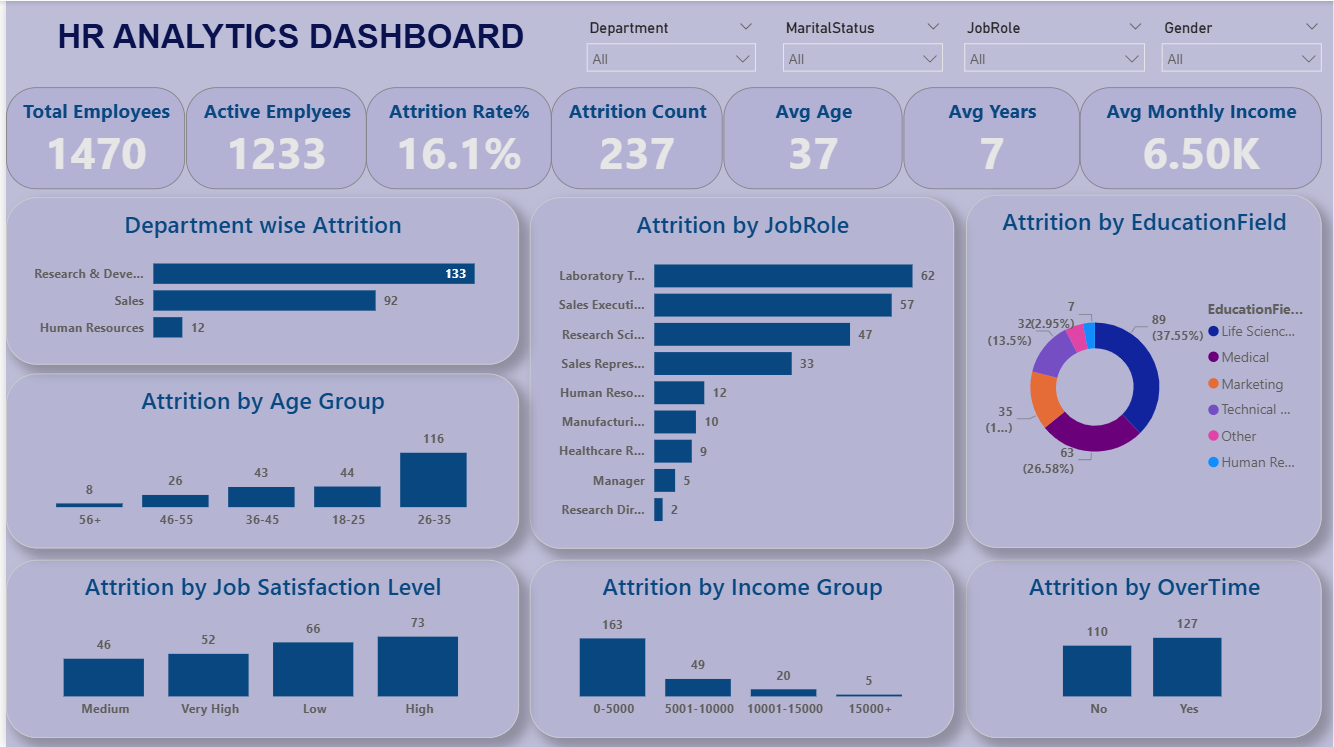

The page's visual inventory and layout, read from the dashboard file:
{"tool":"powerbi","page":{"name":"HR Analytics Dasboard","canvas":[1280,720],"ordinal":0},"visuals":[{"type":"card","title":"Total Employees","fields":{"Values":["HR_Employee_Data.Total Employees"]},"box":[0,83.7,173.1,98.1],"z":0},{"type":"card","title":"Active Emplyees","fields":{"Values":["HR_Employee_Data.Active Employees"]},"box":[173.1,83.7,174.6,98.1],"z":1000},{"type":"card","title":"Attrition Rate%","fields":{"Values":["HR_Employee_Data.Attrition Rate %"]},"box":[347.7,83.7,178.9,98.1],"z":2000},{"type":"card","title":"Avg Age","fields":{"Values":["HR_Employee_Data.Average Age"]},"box":[692.5,83.7,173.1,98.1],"z":3000},{"type":"card","title":"Avg Monthly Income","fields":{"Values":["HR_Employee_Data.Average Monthly Income"]},"box":[1035.9,83.7,233.7,98.1],"z":4000},{"type":"card","title":"Avg Years","fields":{"Values":["HR_Employee_Data.Average Years"]},"box":[865.7,83.7,170.2,98.1],"z":5000},{"type":"card","title":"Attrition Count","fields":{"Values":["HR_Employee_Data.Attrition Count"]},"box":[526.6,83.7,165.9,98.1],"z":6000},{"type":"clusteredBarChart","title":" Department wise Attrition","fields":{"Category":["HR_Employee_Data.Department"],"Y":["HR_Employee_Data.Attrition Count"]},"box":[0,189,494.9,161.6],"z":7000},{"type":"clusteredBarChart","title":"Attrition by JobRole","fields":{"Category":["HR_Employee_Data.JobRole"],"Y":["HR_Employee_Data.Attrition Count"]},"box":[505,189,409.7,339],"z":8000},{"type":"clusteredColumnChart","title":"Attrition by Age Group","fields":{"Category":["HR_Employee_Data.Age Group"],"Y":["HR_Employee_Data.Attrition Count"]},"box":[0,359.2,494.9,168.8],"z":9000},{"type":"columnChart","title":"Attrition by OverTime","fields":{"Category":["HR_Employee_Data.OverTime"],"Y":["HR_Employee_Data.Attrition Count"]},"box":[926.3,539.6,343.4,171.7],"z":10000},{"type":"clusteredColumnChart","title":"Attrition by Job Satisfaction Level","fields":{"Y":["HR_Employee_Data.Attrition Count"],"Category":["HR_Employee_Data.Job Satisfaction Level"]},"box":[0,539.6,494.9,171.7],"z":11000},{"type":"clusteredColumnChart","title":"Attrition by Income Group","fields":{"Category":["HR_Employee_Data.Income Group"],"Y":["HR_Employee_Data.Attrition Count"]},"box":[505,539.6,409.7,171.7],"z":12000},{"type":"slicer","fields":{"Values":["HR_Employee_Data.Department"]},"box":[549.7,11.5,183.2,69.3],"z":13000},{"type":"slicer","fields":{"Values":["HR_Employee_Data.Gender"]},"box":[1105.2,11.5,174.6,75],"z":14000},{"type":"slicer","fields":{"Values":["HR_Employee_Data.JobRole"]},"box":[914.7,11.5,194.8,75],"z":15000},{"type":"slicer","fields":{"Values":["HR_Employee_Data.MaritalStatus"]},"box":[740.1,11.5,174.6,69.3],"z":16000},{"type":"donutChart","title":"Attrition by EducationField","fields":{"Category":["HR_Employee_Data.EducationField"],"Y":["HR_Employee_Data.Attrition Count"]},"box":[926.3,187.6,343.4,340.5],"z":17000},{"type":"textbox","box":[0,11.5,549.7,54.8],"z":19000}]}

Visuals, with their boxes in screenshot pixels (x1, y1, x2, y2), scaled from the page's 1280x720 canvas onto the 1334x747 screenshot:
"Total Employees" card: Rect(0, 87, 180, 189)
"Active Emplyees" card: Rect(180, 87, 362, 189)
"Attrition Rate%" card: Rect(362, 87, 549, 189)
"Avg Age" card: Rect(722, 87, 902, 189)
"Avg Monthly Income" card: Rect(1080, 87, 1323, 189)
"Avg Years" card: Rect(902, 87, 1080, 189)
"Attrition Count" card: Rect(549, 87, 722, 189)
" Department wise Attrition" clusteredBarChart: Rect(0, 196, 516, 364)
"Attrition by JobRole" clusteredBarChart: Rect(526, 196, 953, 548)
"Attrition by Age Group" clusteredColumnChart: Rect(0, 373, 516, 548)
"Attrition by OverTime" columnChart: Rect(965, 560, 1323, 738)
"Attrition by Job Satisfaction Level" clusteredColumnChart: Rect(0, 560, 516, 738)
"Attrition by Income Group" clusteredColumnChart: Rect(526, 560, 953, 738)
slicer - HR_Employee_Data.Department: Rect(573, 12, 764, 84)
slicer - HR_Employee_Data.Gender: Rect(1152, 12, 1333, 90)
slicer - HR_Employee_Data.JobRole: Rect(953, 12, 1156, 90)
slicer - HR_Employee_Data.MaritalStatus: Rect(771, 12, 953, 84)
"Attrition by EducationField" donutChart: Rect(965, 195, 1323, 548)
textbox: Rect(0, 12, 573, 69)
